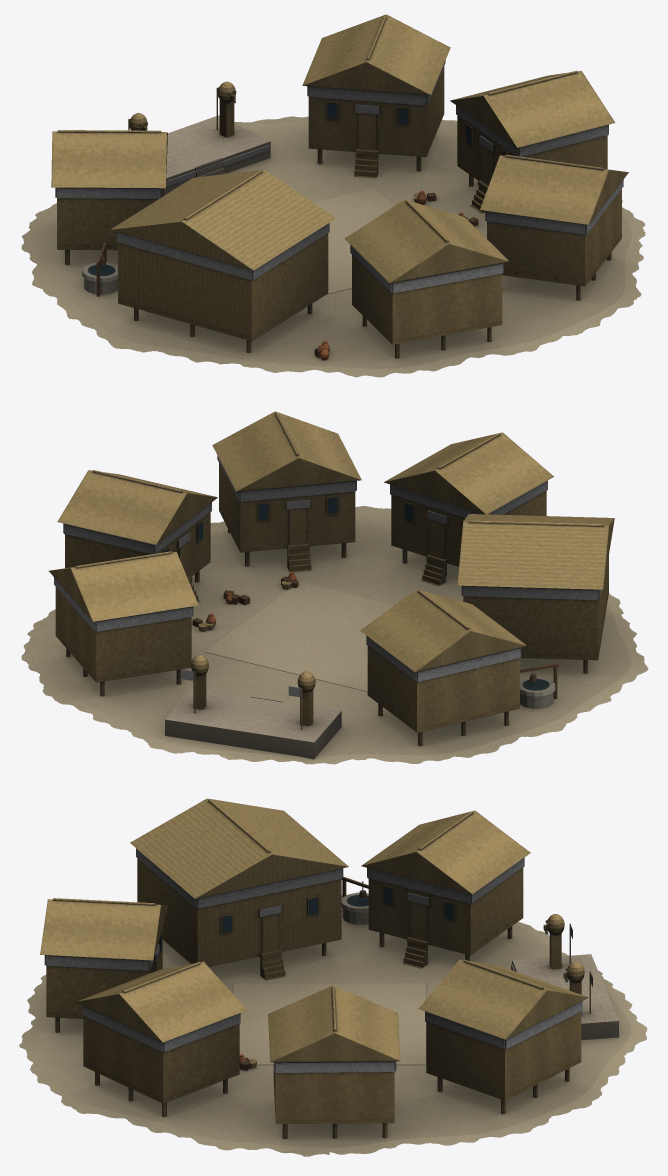
File: bronze-town-small-b-pacific.glb
The picture shows the model from 3 angles, top to bottom: view 1: azimuth 30°, elevation 25°; view 2: azimuth 150°, elevation 25°; view 3: azimuth 270°, elevation 25°; orthographic projection.
Visible parts, largest first — view 1: LOD0; view 2: LOD0; view 3: LOD0.
Part boxes in pixels (x1,y1,x2,y2): LOD0: (21, 14, 645, 377); LOD0: (21, 411, 648, 764); LOD0: (19, 798, 647, 1156).
Size of what is drawn, in the model's own units: 3.96 by 0.867 by 3.98.
Materials: 3 (3 with a texture image).
